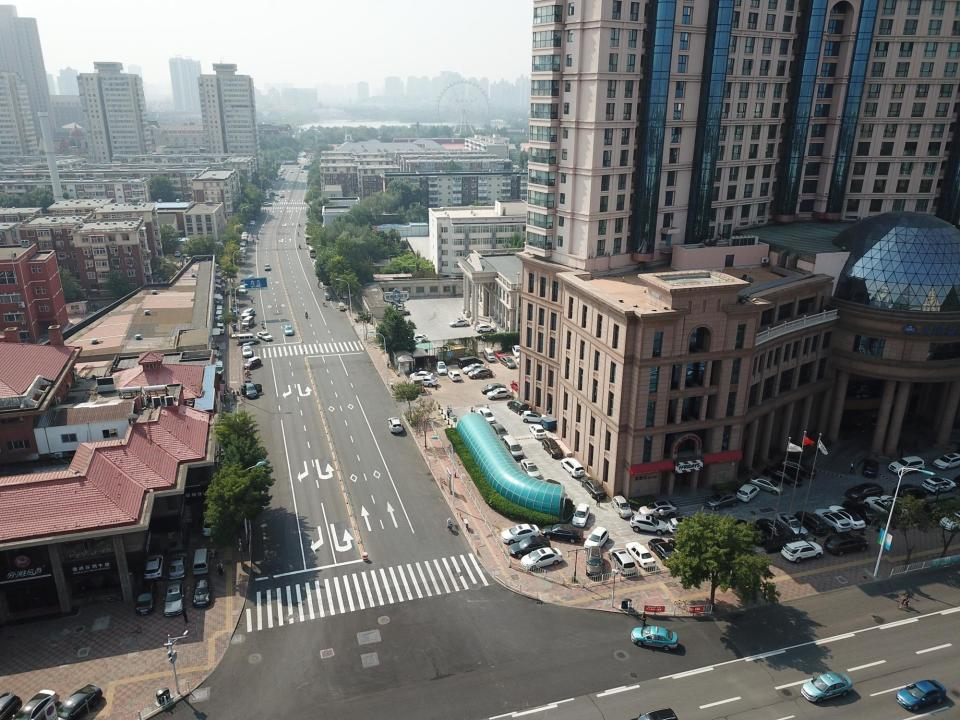bus: (307, 245, 318, 257), (304, 234, 313, 243), (303, 165, 313, 170)
car: (49, 684, 103, 720), (895, 679, 946, 710), (801, 672, 852, 702), (12, 689, 60, 720), (631, 626, 678, 650), (730, 518, 768, 545), (813, 508, 851, 534), (864, 496, 902, 522), (827, 505, 866, 530), (824, 534, 868, 556), (520, 547, 562, 570), (782, 541, 824, 563), (842, 500, 880, 524), (508, 537, 551, 558), (648, 538, 680, 566), (793, 510, 829, 534), (775, 512, 808, 537), (542, 523, 583, 543), (764, 465, 803, 486), (500, 524, 540, 544), (638, 500, 678, 520), (629, 514, 667, 535), (668, 534, 702, 557), (626, 542, 656, 568), (667, 516, 708, 535), (779, 458, 817, 478), (136, 581, 159, 614), (608, 548, 636, 574), (164, 580, 184, 616), (845, 483, 884, 501), (888, 456, 925, 474), (756, 519, 787, 540), (705, 490, 737, 510), (0, 692, 22, 720), (750, 476, 784, 494), (922, 477, 956, 495), (584, 526, 609, 550), (192, 576, 211, 607), (586, 546, 604, 578), (580, 477, 606, 498), (892, 484, 926, 500), (538, 479, 566, 498), (144, 554, 163, 581), (932, 453, 960, 471), (560, 458, 584, 478), (168, 554, 186, 580), (542, 437, 564, 458), (520, 459, 542, 480), (572, 503, 590, 528), (612, 496, 632, 518), (938, 511, 960, 531), (736, 484, 760, 502), (239, 382, 262, 399), (507, 399, 530, 415), (520, 411, 548, 424), (409, 375, 438, 387), (490, 423, 509, 441), (862, 459, 879, 478), (478, 408, 496, 424), (486, 388, 512, 399), (481, 383, 506, 394), (529, 424, 546, 439), (462, 363, 485, 374), (388, 417, 403, 433), (468, 368, 492, 378), (244, 356, 261, 370), (410, 371, 434, 380), (516, 353, 534, 365), (499, 356, 516, 368), (256, 330, 273, 342), (406, 334, 428, 343), (510, 382, 525, 394), (213, 361, 224, 377), (476, 324, 495, 333), (390, 308, 410, 316), (449, 319, 469, 327), (512, 345, 524, 358), (241, 343, 252, 357), (385, 304, 404, 312), (436, 362, 448, 374), (448, 371, 461, 382), (241, 308, 255, 318), (383, 301, 404, 307), (494, 350, 506, 359), (215, 323, 224, 334), (284, 324, 292, 335), (320, 276, 329, 284), (163, 258, 172, 266), (186, 252, 194, 260), (182, 251, 191, 258), (247, 275, 255, 282), (239, 285, 246, 293), (239, 240, 246, 247), (304, 225, 311, 232), (261, 202, 273, 206), (238, 258, 245, 264), (264, 264, 270, 270), (249, 220, 255, 226), (241, 234, 247, 240), (240, 248, 246, 254), (313, 260, 319, 266), (238, 253, 245, 258), (240, 278, 245, 285), (174, 251, 181, 256), (252, 215, 258, 220), (242, 232, 248, 237), (268, 186, 273, 191), (265, 195, 270, 200), (273, 192, 279, 196), (278, 172, 283, 176), (280, 194, 284, 198), (281, 176, 285, 180), (278, 174, 282, 178), (266, 192, 270, 196), (268, 190, 272, 194), (280, 168, 284, 171), (275, 178, 279, 181), (272, 184, 275, 187), (290, 170, 294, 172), (276, 176, 280, 178), (280, 170, 283, 172), (300, 170, 303, 172)
van: (501, 435, 524, 460), (192, 548, 210, 576), (201, 514, 219, 536), (458, 356, 484, 369), (231, 333, 258, 345), (483, 348, 496, 362), (242, 316, 254, 327), (215, 310, 223, 322), (217, 315, 225, 326), (216, 296, 224, 305), (216, 305, 223, 314), (297, 165, 302, 168)
